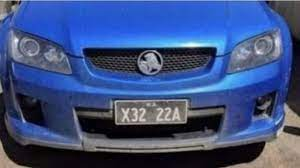number_plate: (112, 97, 194, 128)
